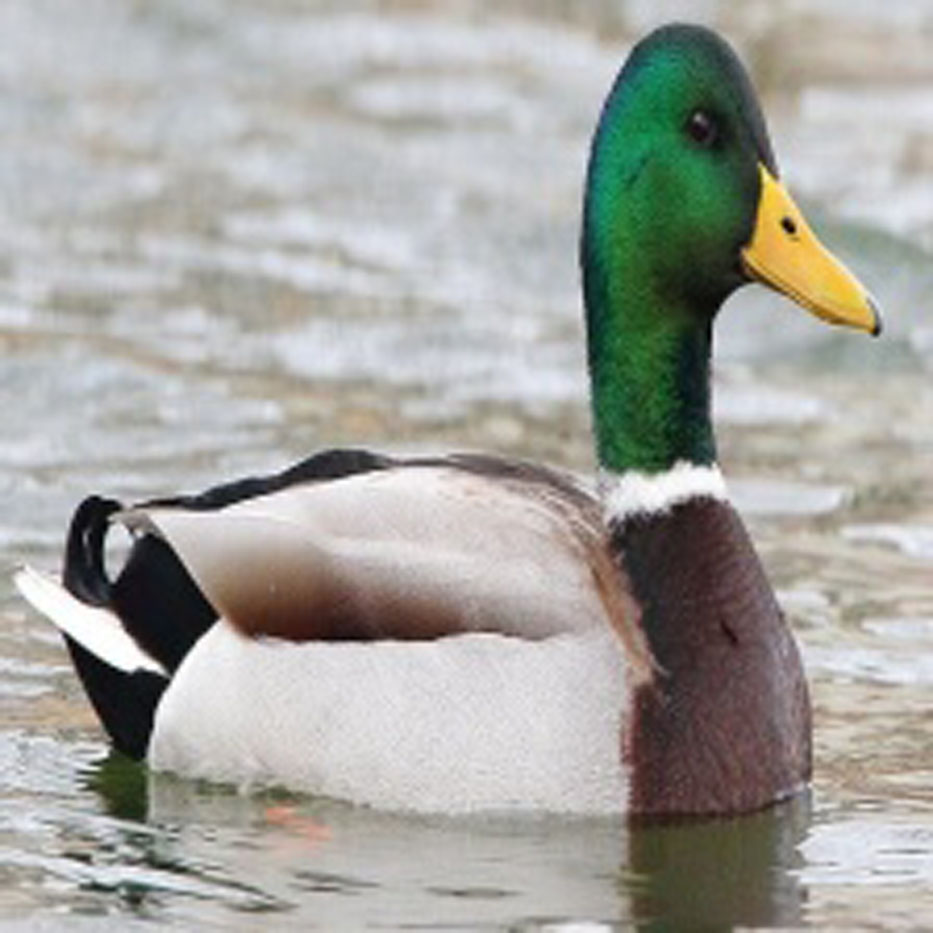Mencari Makan di Lumpur: (746, 187, 891, 345)
